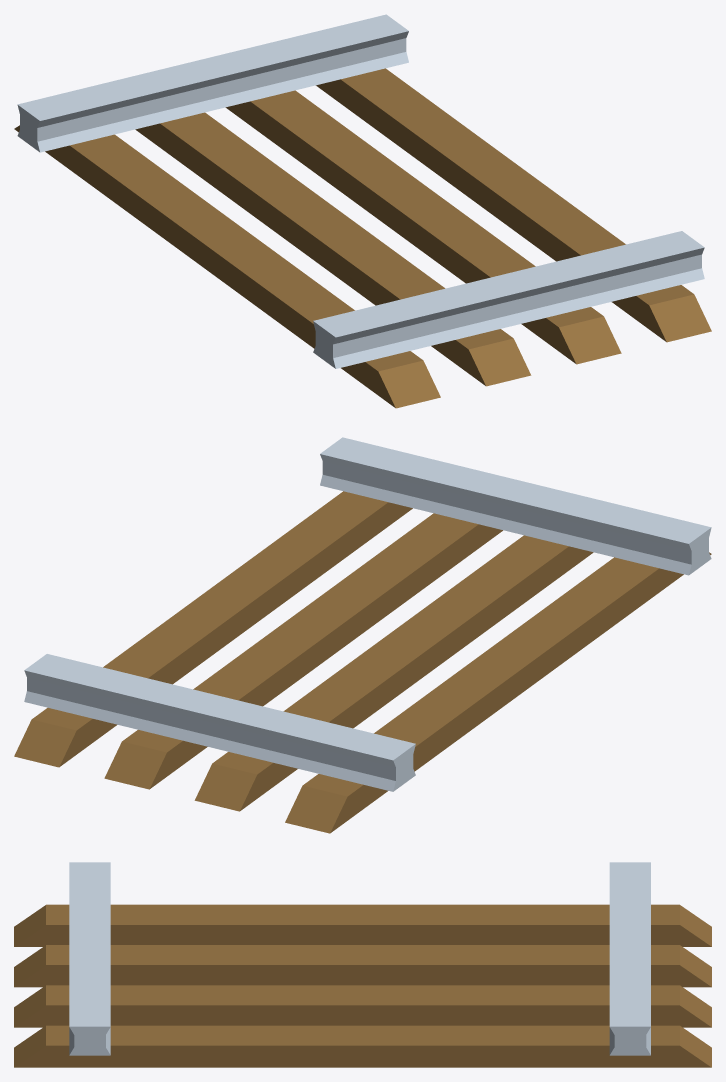
File: TrainTrackStraight.fbx
3 renders of one model, top to bottom at view 1: azimuth 30°, elevation 25°; view 2: azimuth 150°, elevation 25°; view 3: azimuth 270°, elevation 25°, orthographic. The views are drawn at different scales.
Visible parts, largest first — view 1: TrainTrackStraight; view 2: TrainTrackStraight; view 3: TrainTrackStraight.
Boxes of the visible parts, x1=… form: TrainTrackStraight: x1=14, y1=14, x2=711, y2=408; TrainTrackStraight: x1=14, y1=437, x2=711, y2=833; TrainTrackStraight: x1=14, y1=862, x2=711, y2=1067.
Size of the model in its own units: 191 by 27.84 by 343.
